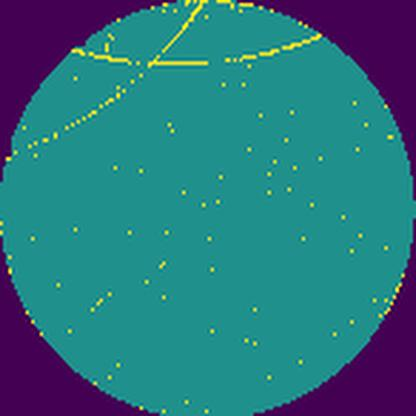Scratch: (25, 0, 323, 153)
